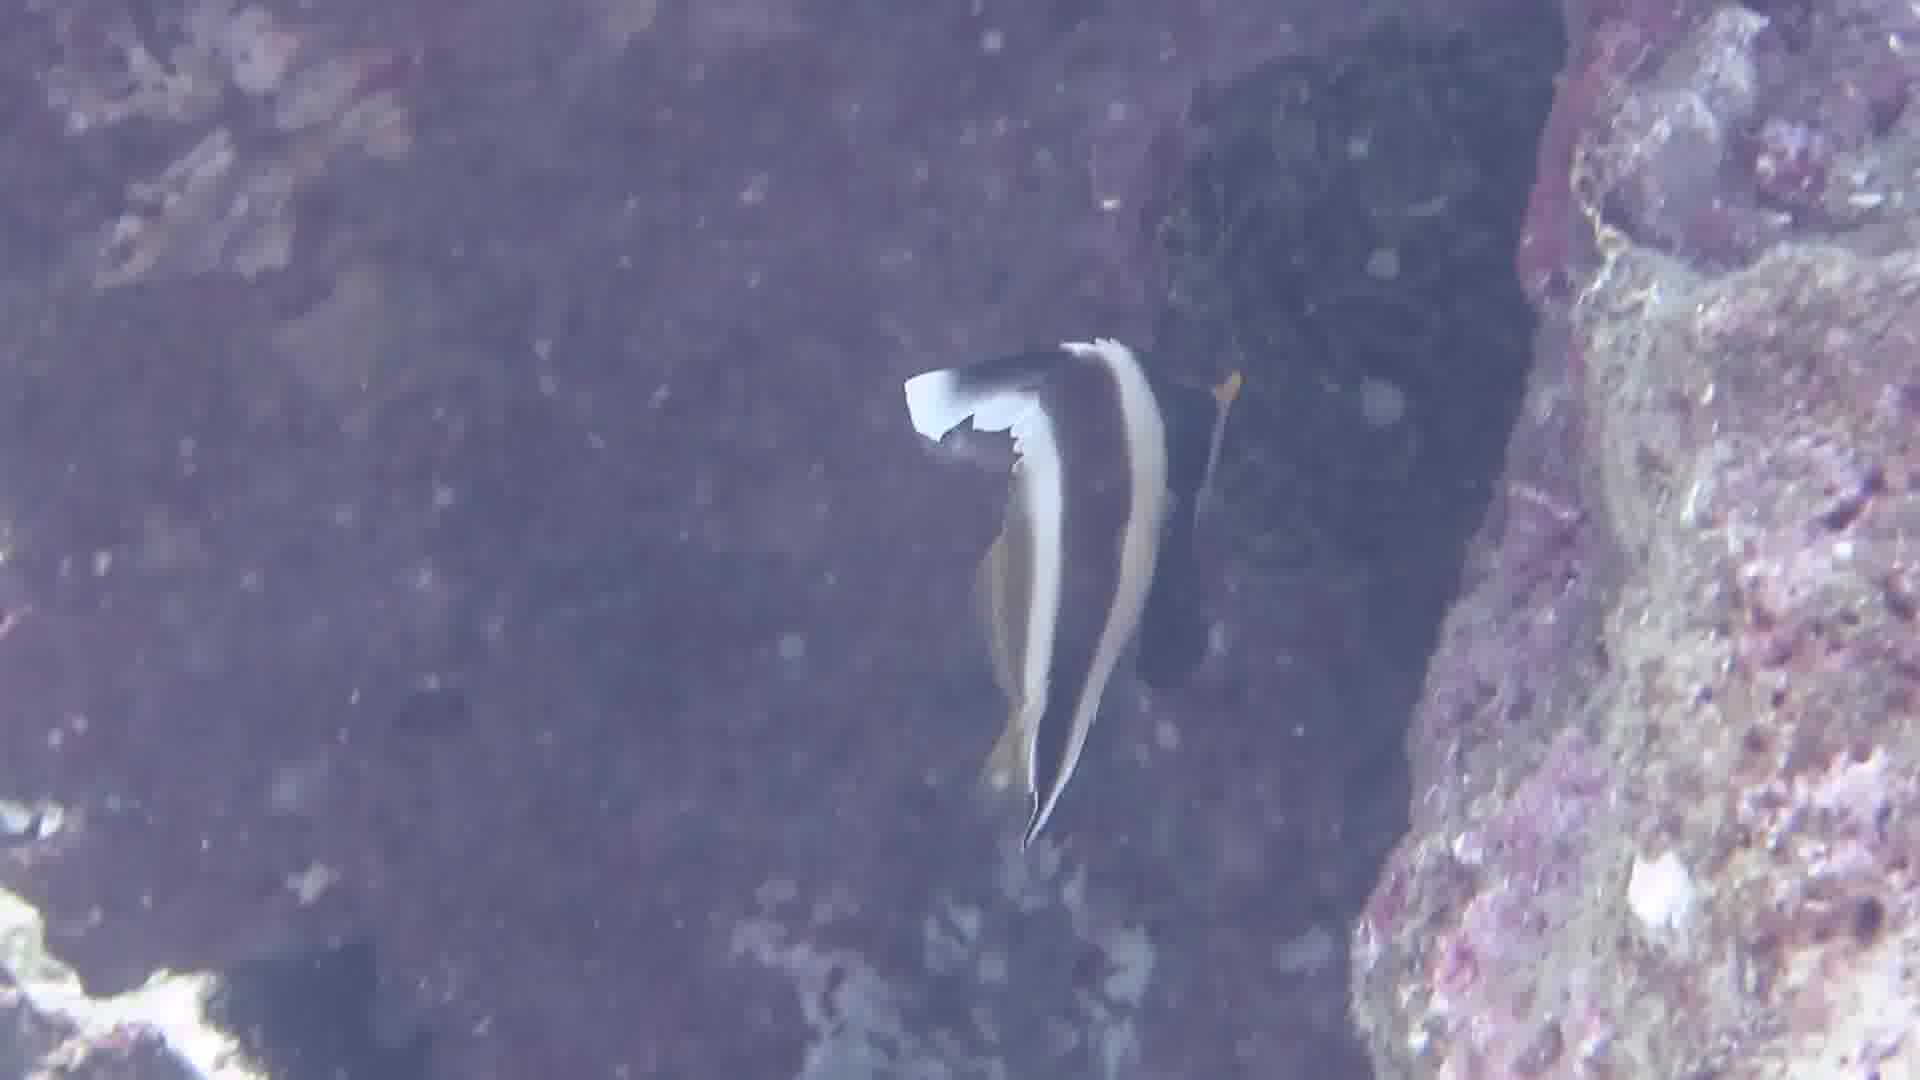Heniochus chrysostomus: (767, 249, 1414, 837)
